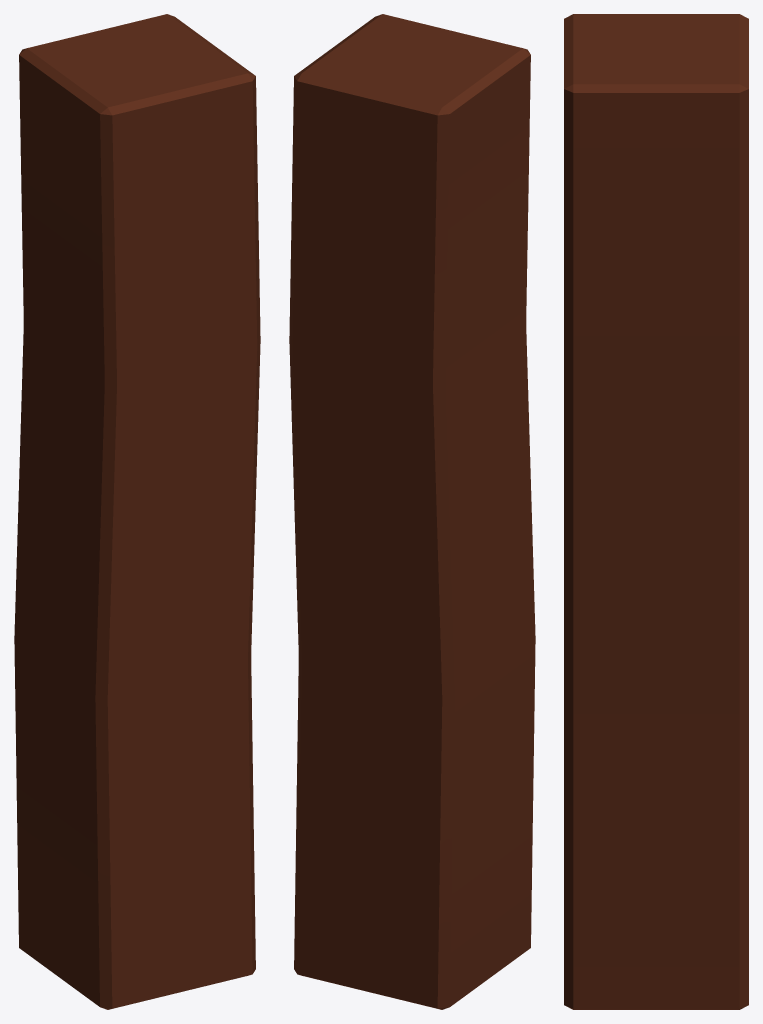
File: Beam_Vert_Small.fbx
3 views of the same model, side by side, from view 1: azimuth 30°, elevation 25°; view 2: azimuth 150°, elevation 25°; view 3: azimuth 270°, elevation 25° (orthographic). The views are drawn at different scales.
Visible parts, largest first — view 1: Beam_Single_Vert_small; view 2: Beam_Single_Vert_small; view 3: Beam_Single_Vert_small.
Boxes of the visible parts, box(x1,y1,x2,y2) form: Beam_Single_Vert_small: box(14, 14, 260, 1009); Beam_Single_Vert_small: box(289, 14, 535, 1009); Beam_Single_Vert_small: box(564, 14, 748, 1009).
Size of the model in its own units: 0.00193 by 0.0101 by 0.00182.
